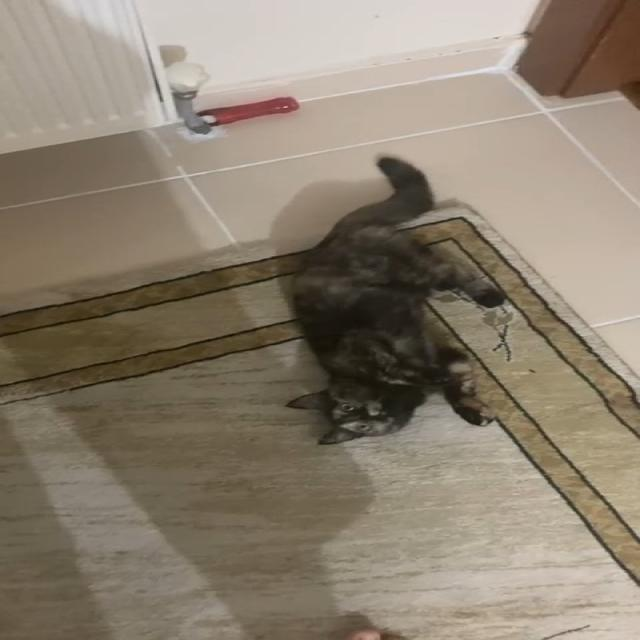authorized: (283, 154, 507, 444)
